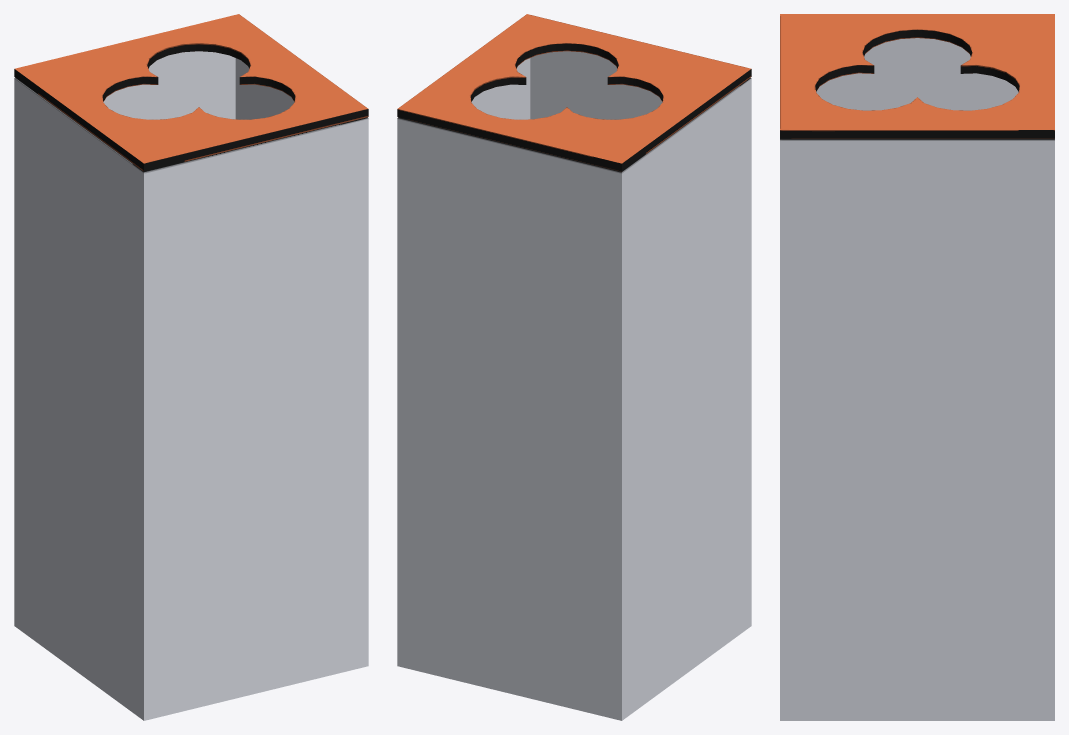
The model's file is trashcan_triangle.fbx.
3 views of the same model, side by side, from view 1: azimuth 30°, elevation 25°; view 2: azimuth 150°, elevation 25°; view 3: azimuth 270°, elevation 25° (orthographic). The views are drawn at different scales.
Visible parts, largest first — view 1: Bin_triangle; view 2: Bin_triangle; view 3: Bin_triangle.
Part boxes in pixels (x1=…): Bin_triangle: x1=14, y1=14, x2=368, y2=720; Bin_triangle: x1=397, y1=14, x2=751, y2=720; Bin_triangle: x1=780, y1=14, x2=1054, y2=720.
Size of the model in its own units: 30 by 71.16 by 30.
